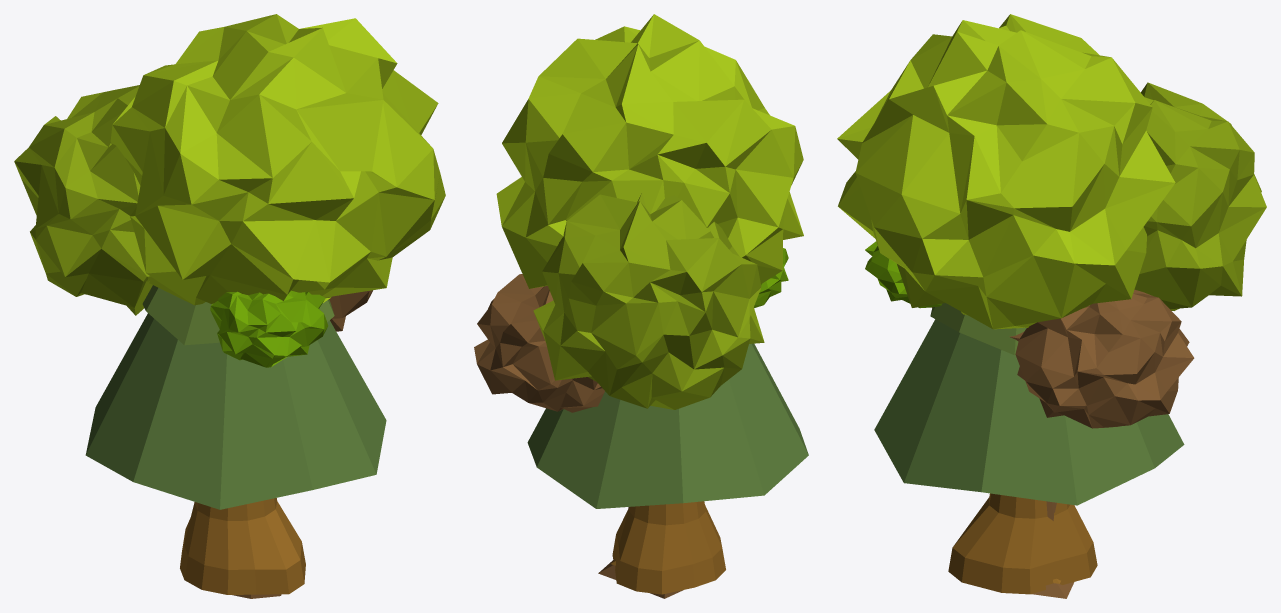
File: Arbol_1.glb
The picture shows the model from 3 angles, left to right: view 1: azimuth 30°, elevation 25°; view 2: azimuth 150°, elevation 25°; view 3: azimuth 270°, elevation 25°; orthographic projection. The views are drawn at different scales.
Parts seen in each view (by area): view 1: Icosphere, Cone.001, Icosphere.003, Cylinder, Icosphere.002, Cone, Icosphere.001; view 2: Icosphere, Icosphere.003, Cone.001, Icosphere.001, Cylinder, Icosphere.002; view 3: Icosphere, Cone.001, Icosphere.003, Icosphere.001, Cylinder, Cone, Icosphere.002, Cylinder.002.
Boxes of the visible parts, x1=… form: Icosphere: x1=110, y1=14, x2=445, y2=305; Cone.001: x1=85, y1=313, x2=386, y2=509; Icosphere.003: x1=14, y1=85, x2=152, y2=315; Cylinder: x1=180, y1=498, x2=305, y2=594; Icosphere.002: x1=210, y1=290, x2=328, y2=367; Cone: x1=142, y1=285, x2=334, y2=345; Icosphere.001: x1=329, y1=290, x2=372, y2=331; Icosphere: x1=496, y1=14, x2=803, y2=288; Icosphere.003: x1=533, y1=192, x2=764, y2=409; Cone.001: x1=527, y1=343, x2=808, y2=508; Icosphere.001: x1=474, y1=274, x2=604, y2=412; Cylinder: x1=612, y1=501, x2=725, y2=594; Icosphere.002: x1=754, y1=248, x2=788, y2=307; Icosphere: x1=837, y1=14, x2=1175, y2=329; Cone.001: x1=874, y1=319, x2=1184, y2=505; Icosphere.003: x1=1134, y1=82, x2=1266, y2=310; Icosphere.001: x1=1009, y1=289, x2=1194, y2=428; Cylinder: x1=948, y1=493, x2=1097, y2=594; Cone: x1=930, y1=303, x2=1026, y2=355; Icosphere.002: x1=865, y1=241, x2=941, y2=308; Cylinder.002: x1=1031, y1=501, x2=1074, y2=598.
Bounding box in the file's own units: 6.87 × 11.65 × 8.04.
